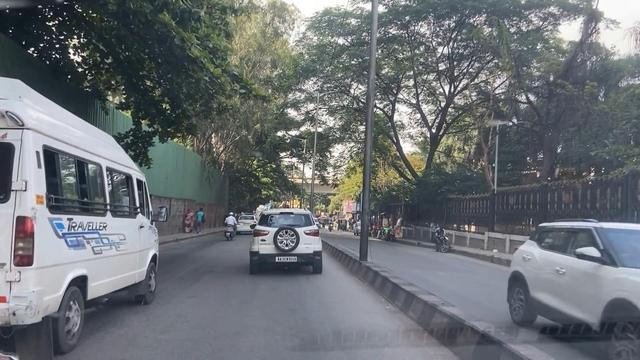HMV: (0, 76, 156, 355)
LMV: (262, 205, 322, 281)
